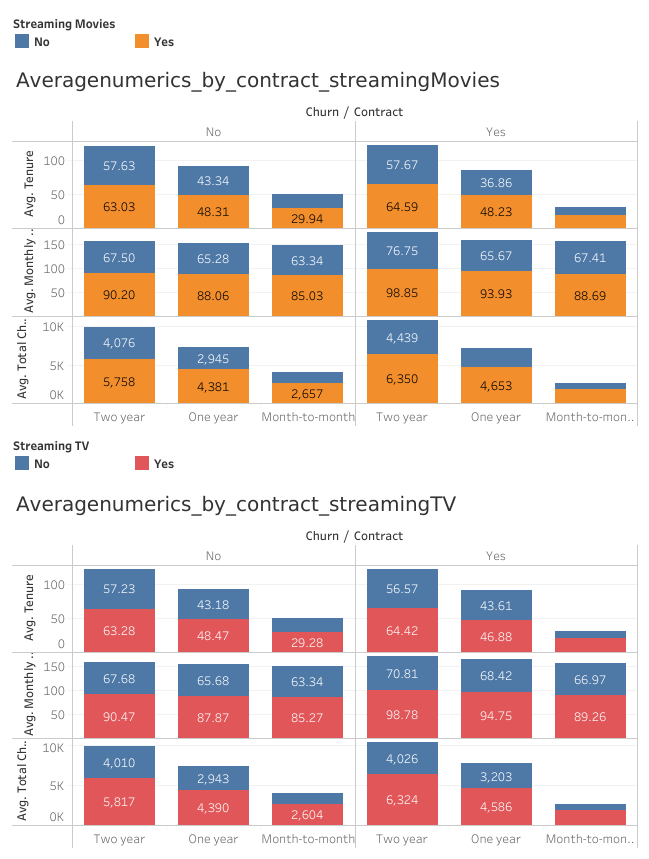

What the dashboard file says about the page in this screenshot:
{"tool":"tableau","page":{"name":"Services_dashboard2","canvas":[650,860],"ordinal":3},"visuals":[{"type":"legend","title":"Averagenumerics_by_contract_streamingMovies","param":"[federated.1cd4vsb0pbaci618jufcm0puo83k].[none:StreamingMovies:nk]","box":[8,11.6,634,49.3]},{"type":"worksheet","title":"Averagenumerics_by_contract_streamingMovies","mark":"Automatic","rows":["Tenure","MonthlyCharges","TotalCharges"],"cols":["Churn","Contract"],"box":[8,60.9,634,369.1]},{"type":"legend","title":"Averagenumerics_by_contract_streamingTV","param":"[federated.1cd4vsb0pbaci618jufcm0puo83k].[none:StreamingTV:nk]","box":[8,430,634,51.5]},{"type":"worksheet","title":"Averagenumerics_by_contract_streamingTV","mark":"Automatic","rows":["Tenure","MonthlyCharges","TotalCharges"],"cols":["Churn","Contract"],"box":[8,481.5,634,366.9]}]}

Visuals, with their boxes in screenshot pixels (x1, y1, x2, y2), scaled from the page's 650x860 canvas onto the 649x859 screenshot:
"Averagenumerics_by_contract_streamingMovies" legend: x1=8, y1=12, x2=641, y2=61
"Averagenumerics_by_contract_streamingMovies" worksheet: x1=8, y1=61, x2=641, y2=430
"Averagenumerics_by_contract_streamingTV" legend: x1=8, y1=430, x2=641, y2=481
"Averagenumerics_by_contract_streamingTV" worksheet: x1=8, y1=481, x2=641, y2=847
